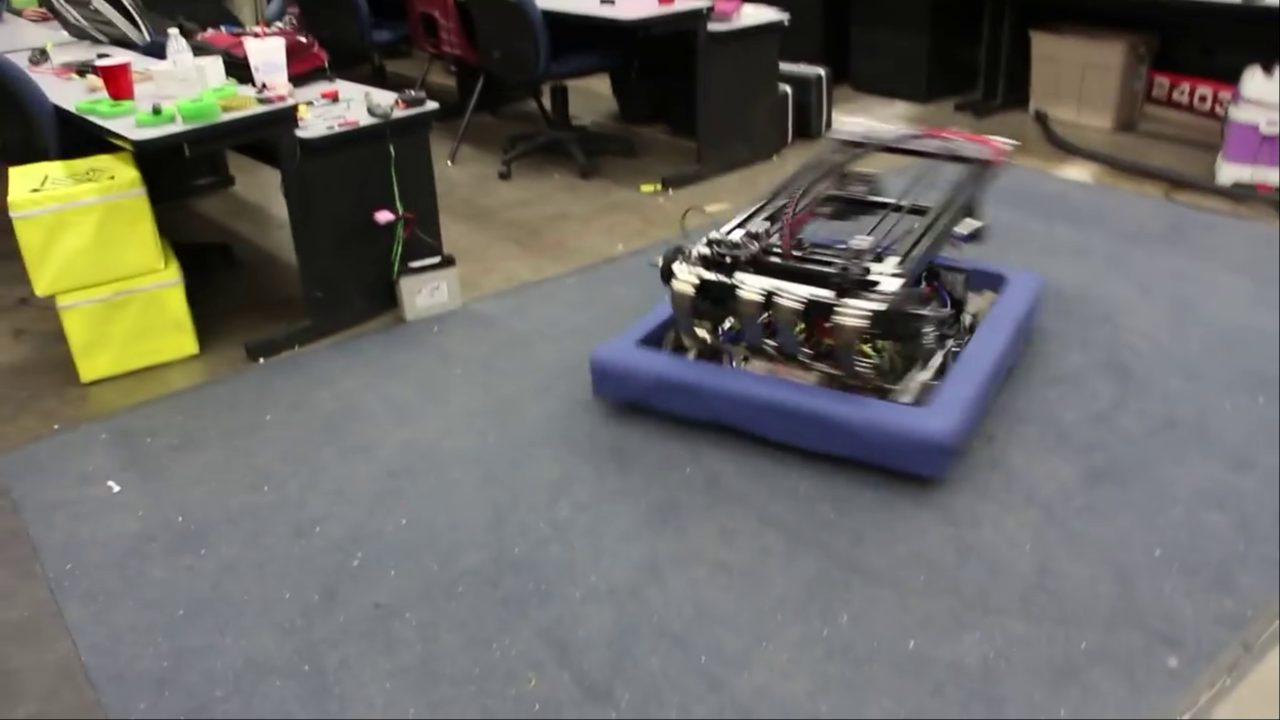cube: (6, 150, 169, 296), (52, 236, 202, 384)
